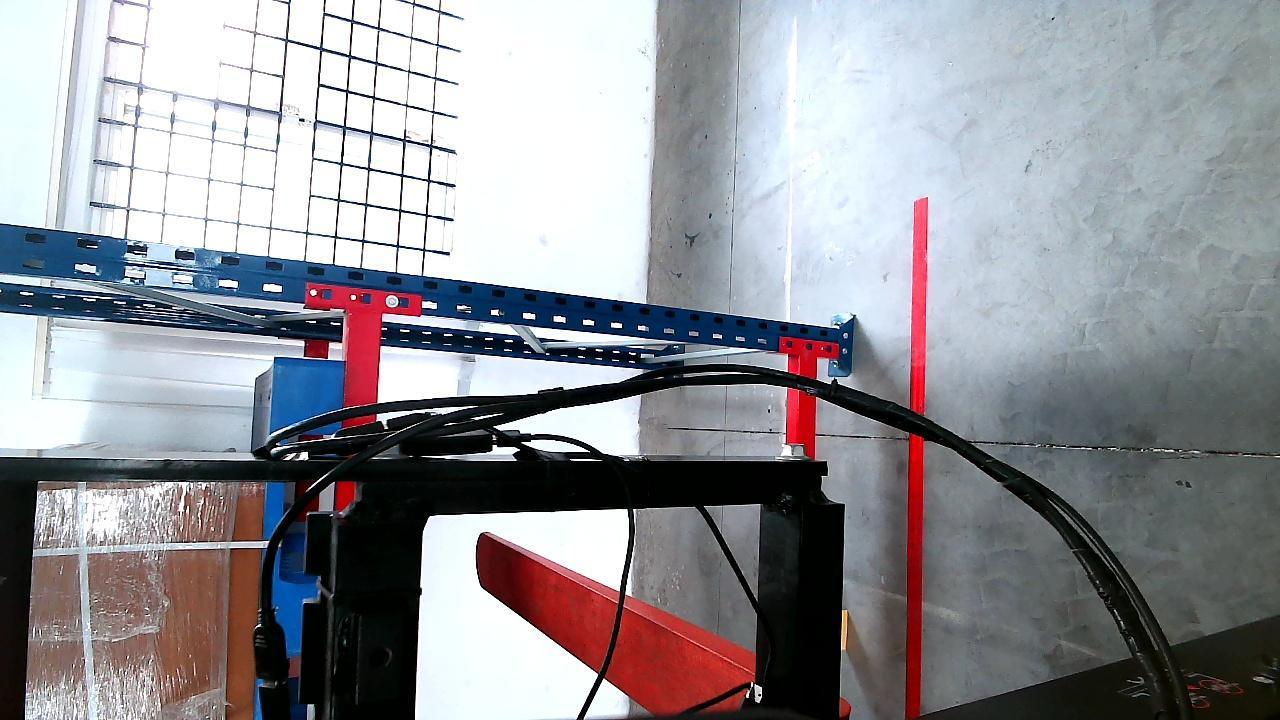red_line: (904, 194, 927, 720)
